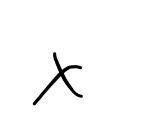mult: (29, 52, 83, 106)
